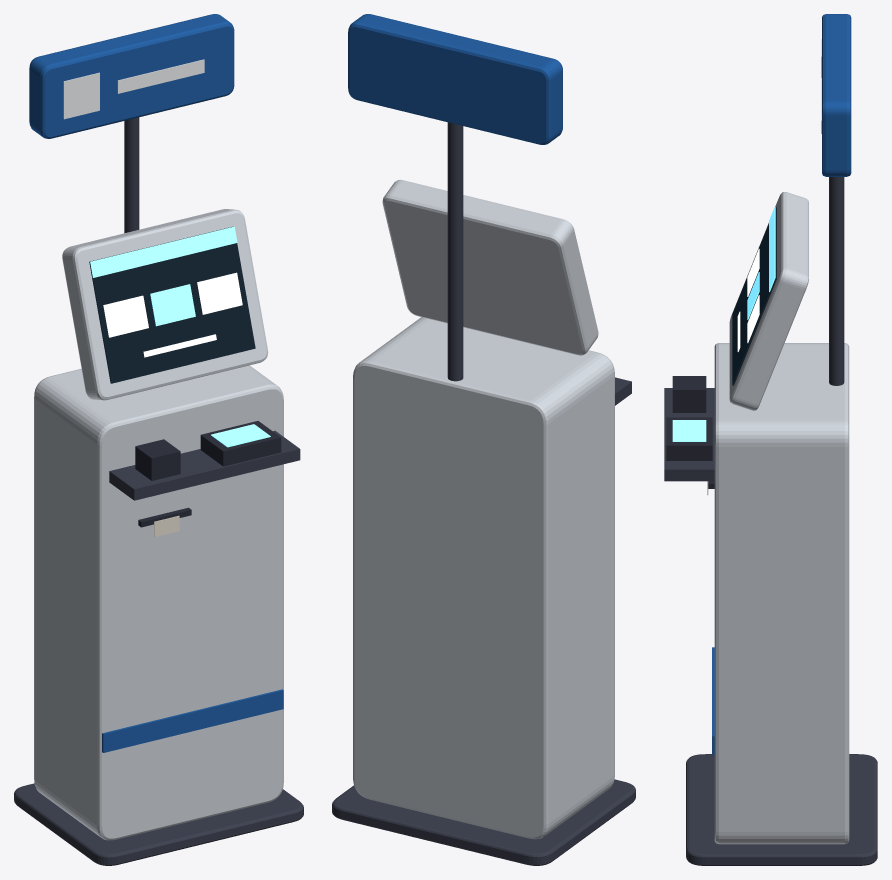
The model's file is air-024.glb.
3 renders of one model, left to right at view 1: azimuth 30°, elevation 25°; view 2: azimuth 150°, elevation 25°; view 3: azimuth 270°, elevation 25°, orthographic. The views are drawn at different scales.
Visible parts, largest first — view 1: counter_panel, airline_blue, dark_steel, monitor_screen, pump_screen, plastic_dark, display_white, white; view 2: counter_panel, airline_blue, dark_steel; view 3: counter_panel, dark_steel, airline_blue, plastic_dark, monitor_screen, pump_screen, display_white.
Boxes of the visible parts, x1,y1,x2,y2 form: counter_panel: (34, 209, 283, 840); airline_blue: (29, 14, 283, 752); dark_steel: (14, 117, 303, 865); monitor_screen: (89, 226, 255, 383); pump_screen: (90, 226, 270, 447); plastic_dark: (135, 421, 281, 527); display_white: (103, 272, 242, 357); white: (63, 59, 204, 119); counter_panel: (353, 179, 614, 839); airline_blue: (348, 14, 562, 144); dark_steel: (332, 122, 635, 865); counter_panel: (714, 192, 849, 844); dark_steel: (664, 177, 877, 865); airline_blue: (712, 14, 851, 755); plastic_dark: (666, 376, 714, 488); monitor_screen: (732, 207, 776, 385); pump_screen: (672, 207, 775, 441); display_white: (737, 249, 759, 351).
Bounding box in the file's own units: 0.576 × 1.99 × 0.508.
